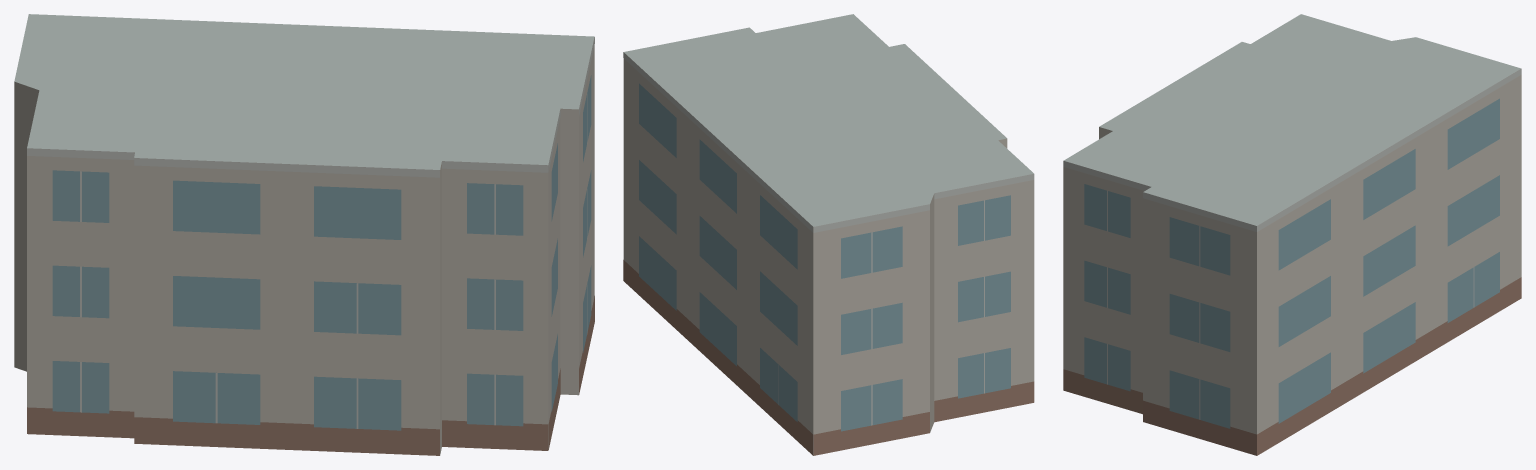
File: survey-upis-32707497.glb
3 renders of one model, left to right at view 1: azimuth 30°, elevation 25°; view 2: azimuth 150°, elevation 25°; view 3: azimuth 270°, elevation 25°, orthographic. The views are drawn at different scales.
Visible parts, largest first — view 1: survey-upis-32707497.tmp; view 2: survey-upis-32707497.tmp; view 3: survey-upis-32707497.tmp.
Part boxes in pixels (box(x1,y1,x2,y2)): survey-upis-32707497.tmp: box(14, 14, 594, 455); survey-upis-32707497.tmp: box(623, 14, 1034, 455); survey-upis-32707497.tmp: box(1063, 14, 1521, 455).
Size of the model in its own units: 18.11 by 9.15 by 16.53.
